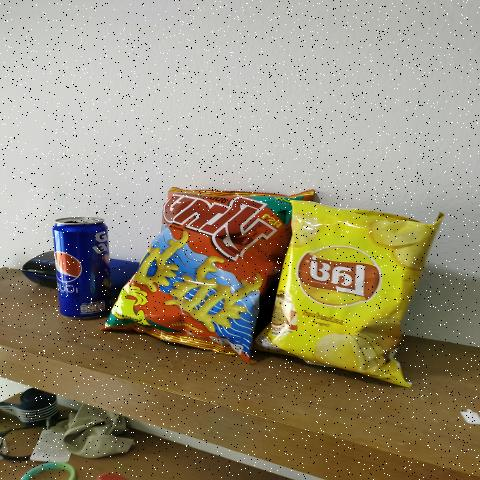pepsi_blue: (50, 215, 112, 325)
